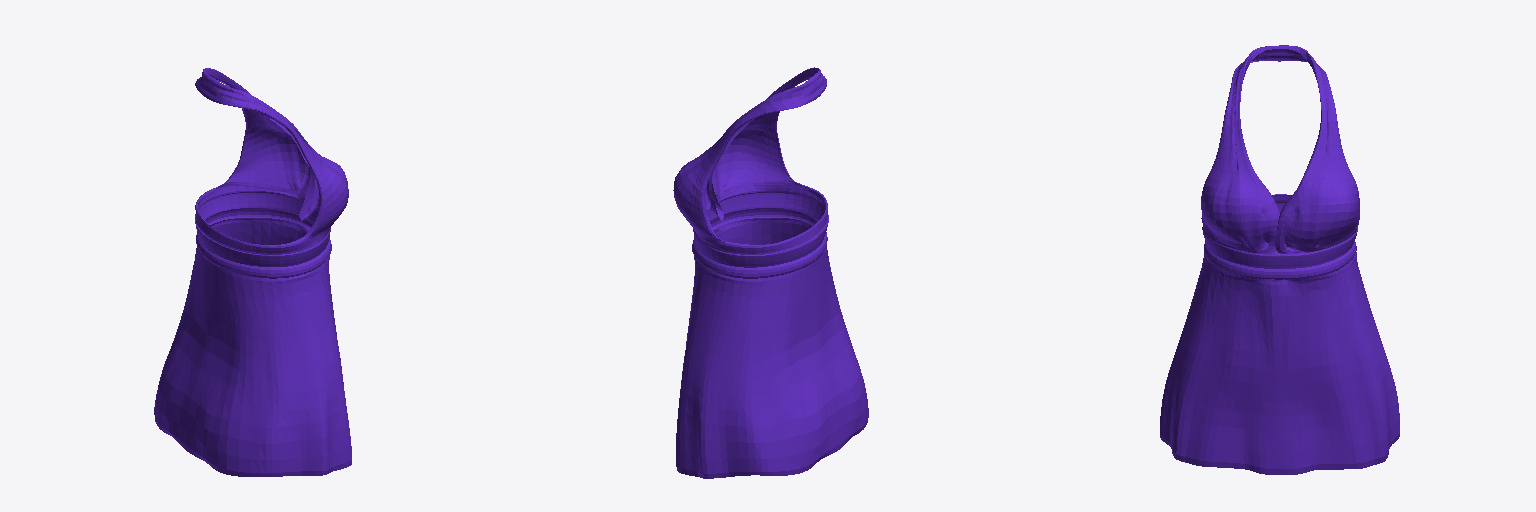
The model's file is duanqun2.obj.
3 views of the same model, side by side, from view 1: azimuth 30°, elevation 25°; view 2: azimuth 150°, elevation 25°; view 3: azimuth 270°, elevation 25° (orthographic).
Parts seen in each view (by area): view 1: file.002; view 2: file.002; view 3: file.002.
Part boxes in pixels (bbox=[...]): file.002: bbox=[154, 68, 351, 476]; file.002: bbox=[673, 67, 868, 478]; file.002: bbox=[1160, 45, 1399, 474].
Bounding box in the file's own units: 2.47 × 6.25 × 3.61.